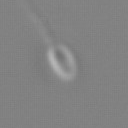normal: (18, 1, 56, 47)
